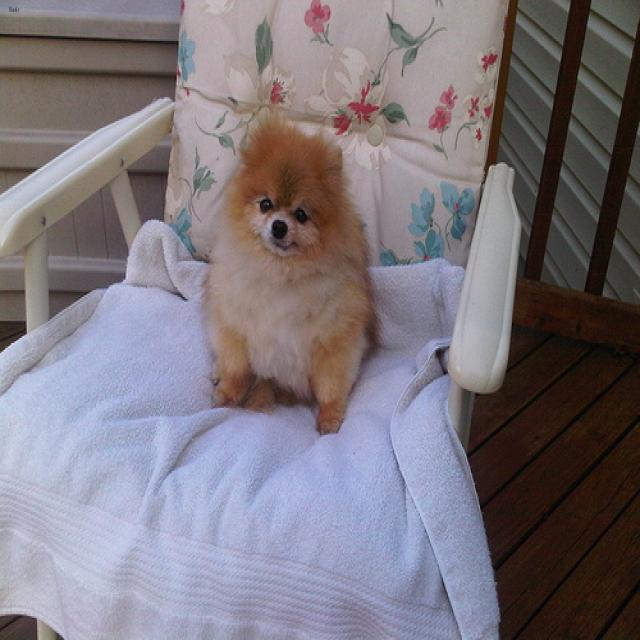dog-pomeranian: (192, 106, 388, 445)
